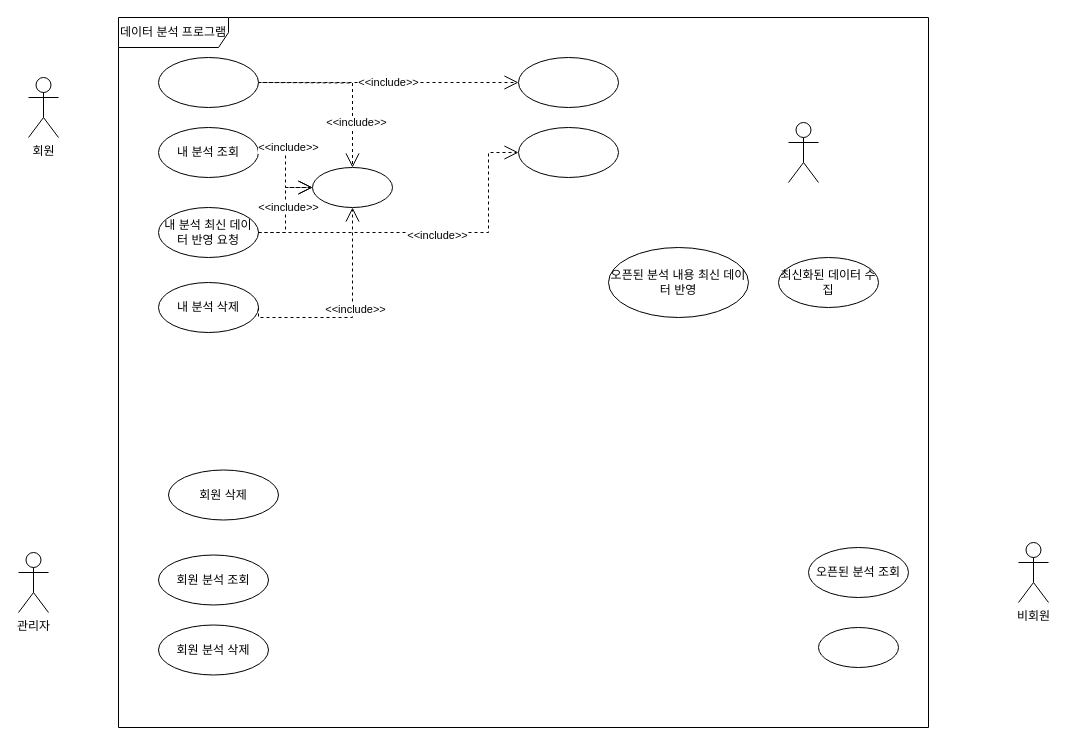
Image size: 1067x745. Some labels were removed from this diagram. The centre of each missing label's shape, as x and y in pixels:
"로그인" goes at (352,187).
"분석 생성" goes at (568,82).
"분석 생성 요청" goes at (208,82).
"시스템" goes at (803,152).
"유저 분석 최신 데이터 반영" goes at (568,152).
"회원가입" goes at (858,647).
